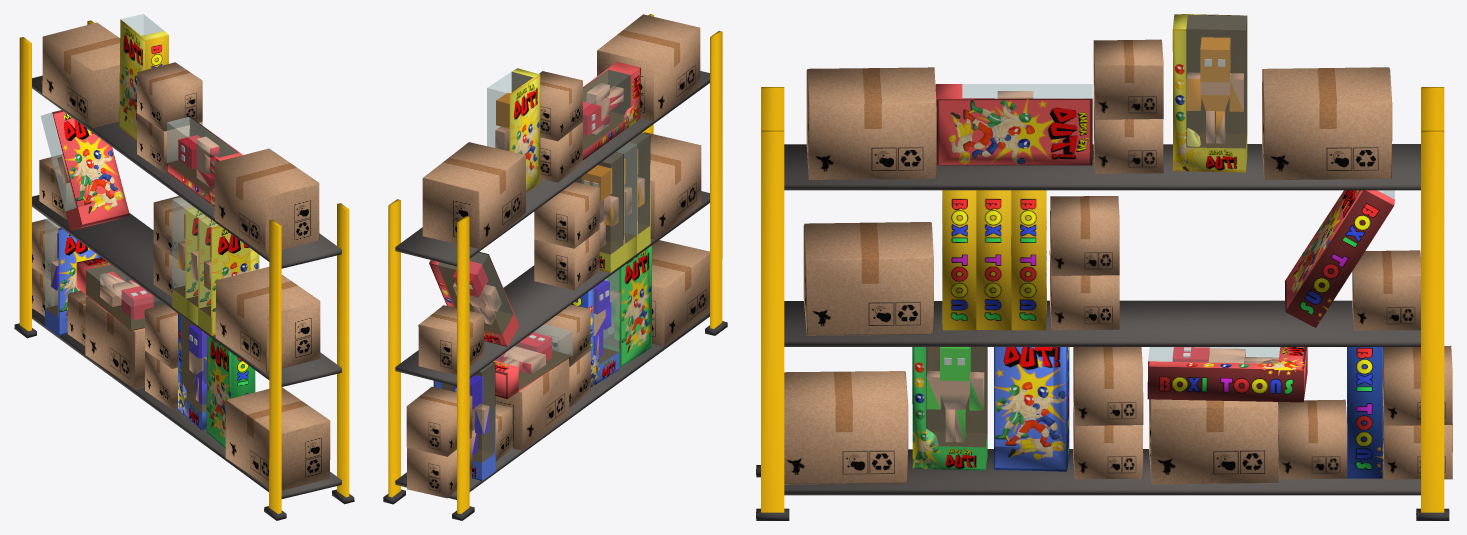
Rendered from shelving.fbx.
3 renders of one model, left to right at view 1: azimuth 30°, elevation 25°; view 2: azimuth 150°, elevation 25°; view 3: azimuth 270°, elevation 25°, orthographic. The views are drawn at different scales.
Visible parts, largest first — view 1: BoxesOBJ.083; view 2: BoxesOBJ.083; view 3: BoxesOBJ.083.
Boxes of the visible parts, x1=… form: BoxesOBJ.083: x1=14, y1=14, x2=354, y2=520; BoxesOBJ.083: x1=383, y1=14, x2=727, y2=520; BoxesOBJ.083: x1=756, y1=14, x2=1452, y2=520.
Size of the model in its own units: 90.46 by 397 by 528.
16 materials, 5 textured.
